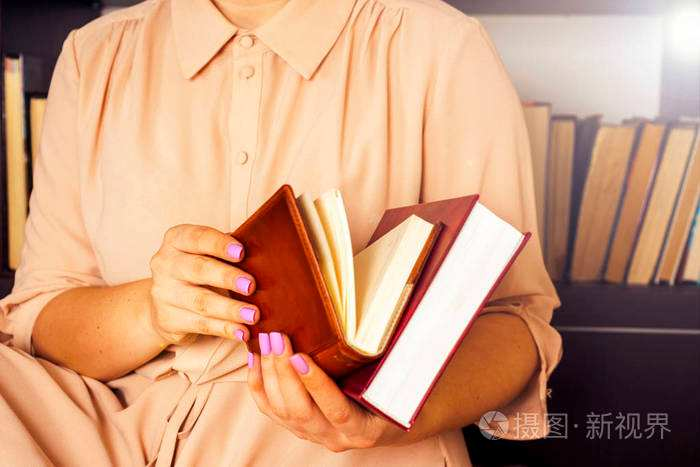no-phone: (145, 184, 532, 454)
